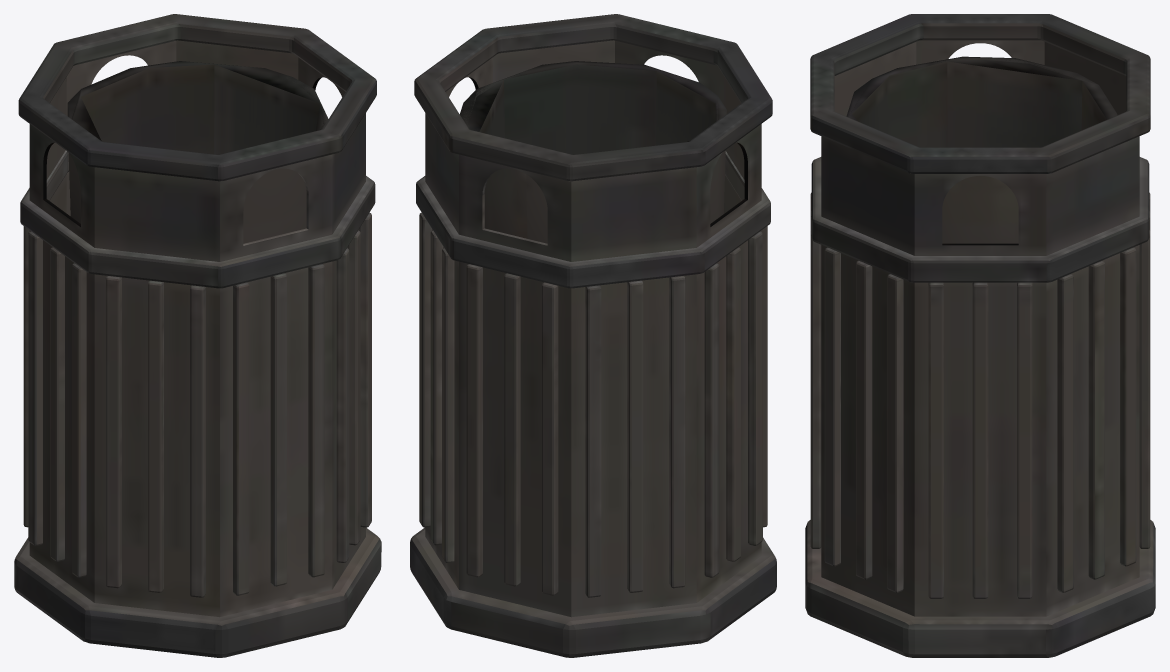
The model's file is g3d_trash_can.glb.
The picture shows the model from 3 angles, left to right: view 1: azimuth 30°, elevation 25°; view 2: azimuth 150°, elevation 25°; view 3: azimuth 270°, elevation 25°; orthographic projection.
Parts seen in each view (by area): view 1: trash-can_body.001, trash-can_body.001_lo; view 2: trash-can_body.001, trash-can_body.001_lo; view 3: trash-can_body.001, trash-can_body.001_lo.
Part boxes in pixels (x1=…): trash-can_body.001: x1=14, y1=14, x2=381, y2=657; trash-can_body.001_lo: x1=72, y1=64, x2=327, y2=154; trash-can_body.001: x1=410, y1=14, x2=776, y2=657; trash-can_body.001_lo: x1=460, y1=61, x2=717, y2=154; trash-can_body.001: x1=805, y1=14, x2=1155, y2=657; trash-can_body.001_lo: x1=848, y1=57, x2=1106, y2=147.
Size of the model in its own units: 0.594 by 0.94 by 0.594.
1 material, 1 textured.
